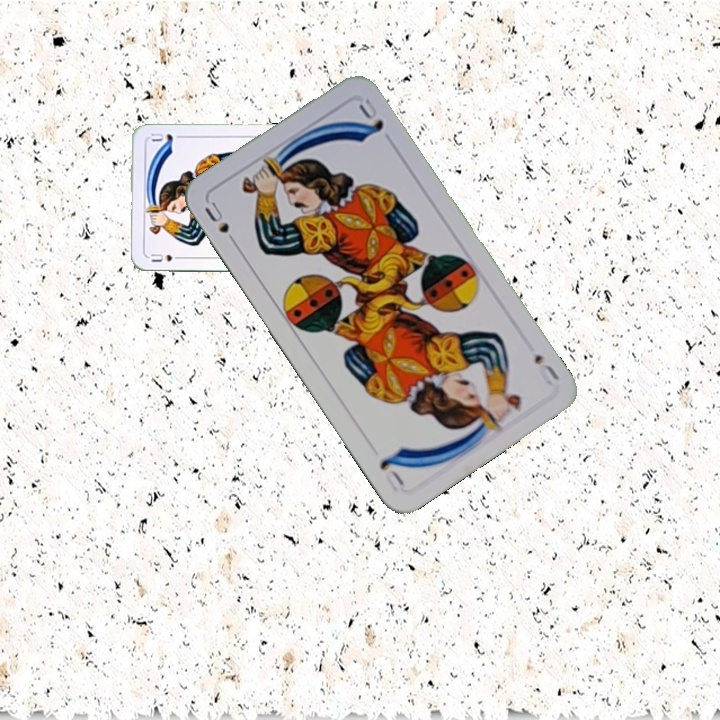SU: (200, 197, 242, 250), (530, 349, 562, 388), (147, 249, 186, 264)
